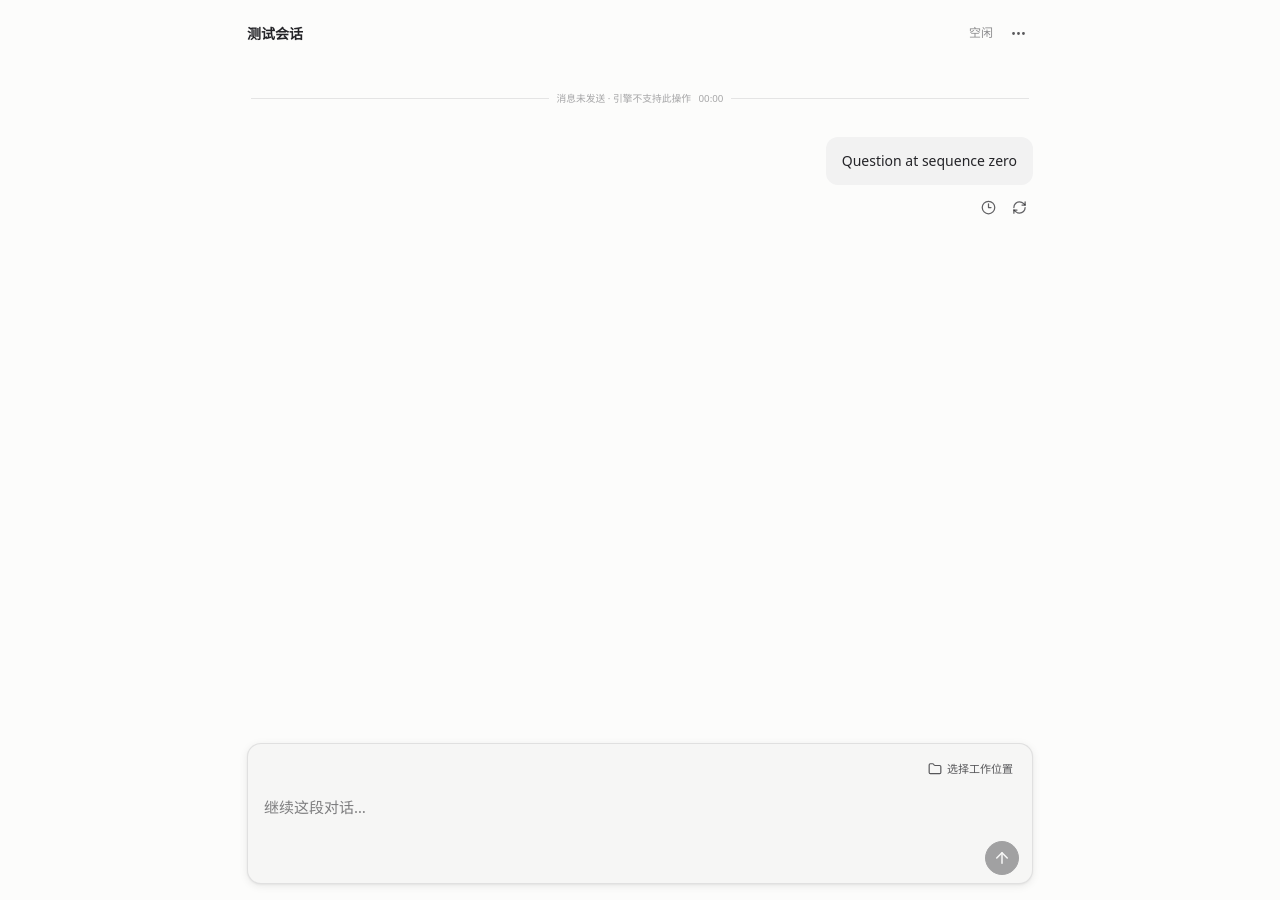
Test: 持久化发送回执对账 › 失败事件先到达时，将其重新配给查回来的用户消息
Click the button named "检查发送状态": x=1019, y=208 1005,194 -> 1033,222
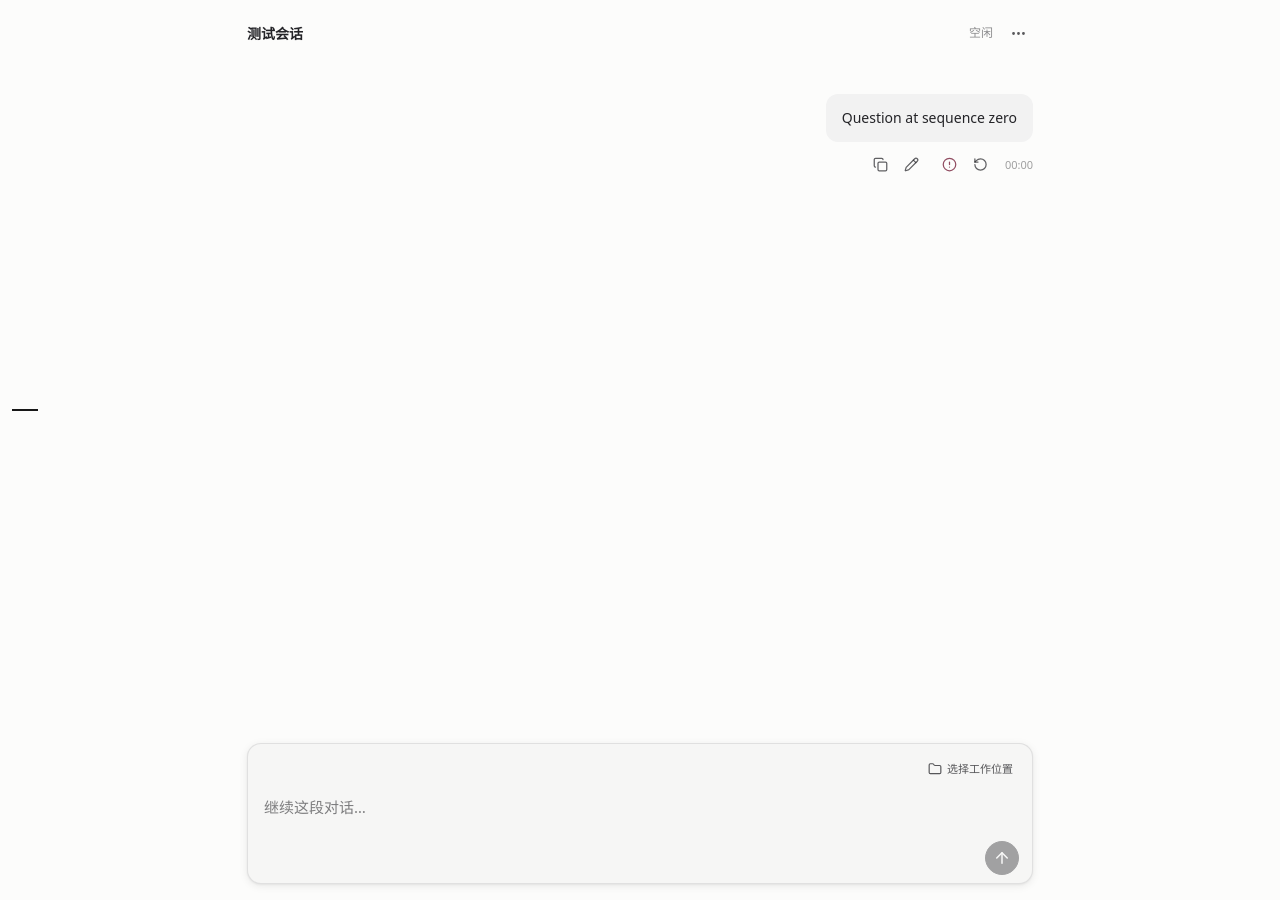
Now the element with test id "pending-message" is gone
Now the button named "重发" is shown, box 967,151 -> 995,179
